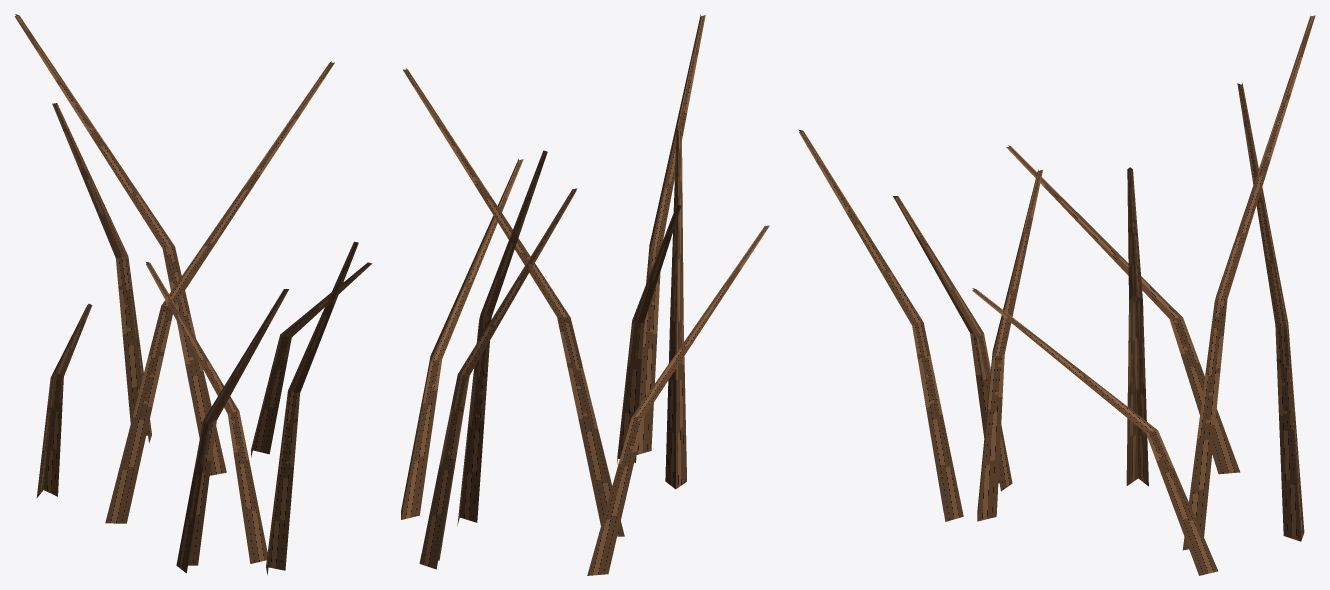
The model's file is PAN-02_Juncal_ralo.gltf.
3 views of the same model, side by side, from view 1: azimuth 30°, elevation 25°; view 2: azimuth 150°, elevation 25°; view 3: azimuth 270°, elevation 25° (orthographic). The views are drawn at different scales.
Parts seen in each view (by area): view 1: PAN-02_Juncal_ralo; view 2: PAN-02_Juncal_ralo; view 3: PAN-02_Juncal_ralo.
Part boxes in pixels (x1,y1,x2,y2): PAN-02_Juncal_ralo: [14, 14, 372, 575]; PAN-02_Juncal_ralo: [401, 14, 769, 575]; PAN-02_Juncal_ralo: [798, 15, 1315, 575].
Bounding box in the file's own units: 0.8976 × 1.25 × 1.27.
1 material, 1 textured.
